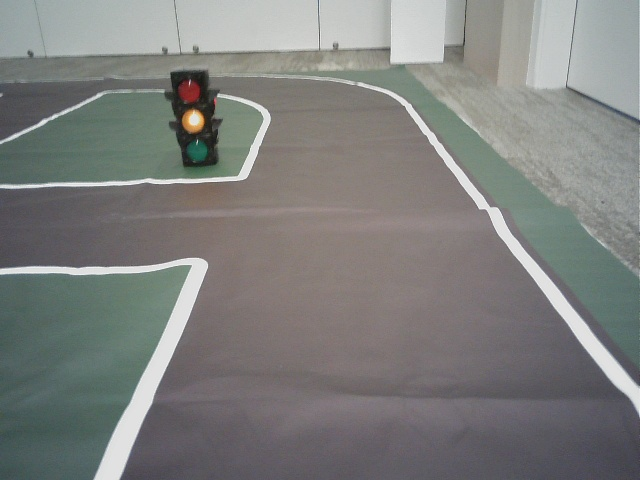yellow: (174, 72, 211, 161)
